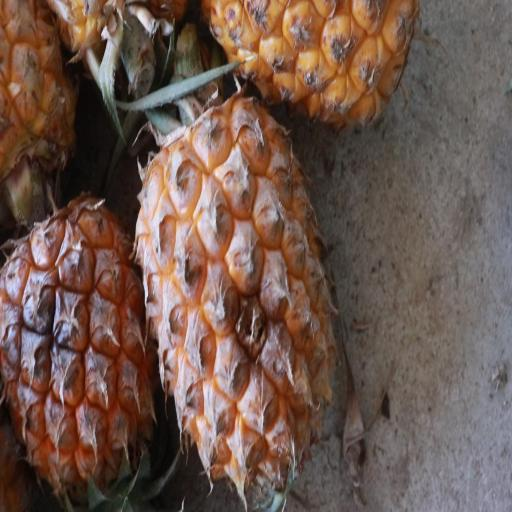Pineapple - v8 v1: (132, 86, 339, 506), (0, 197, 158, 512), (3, 492, 6, 497)
